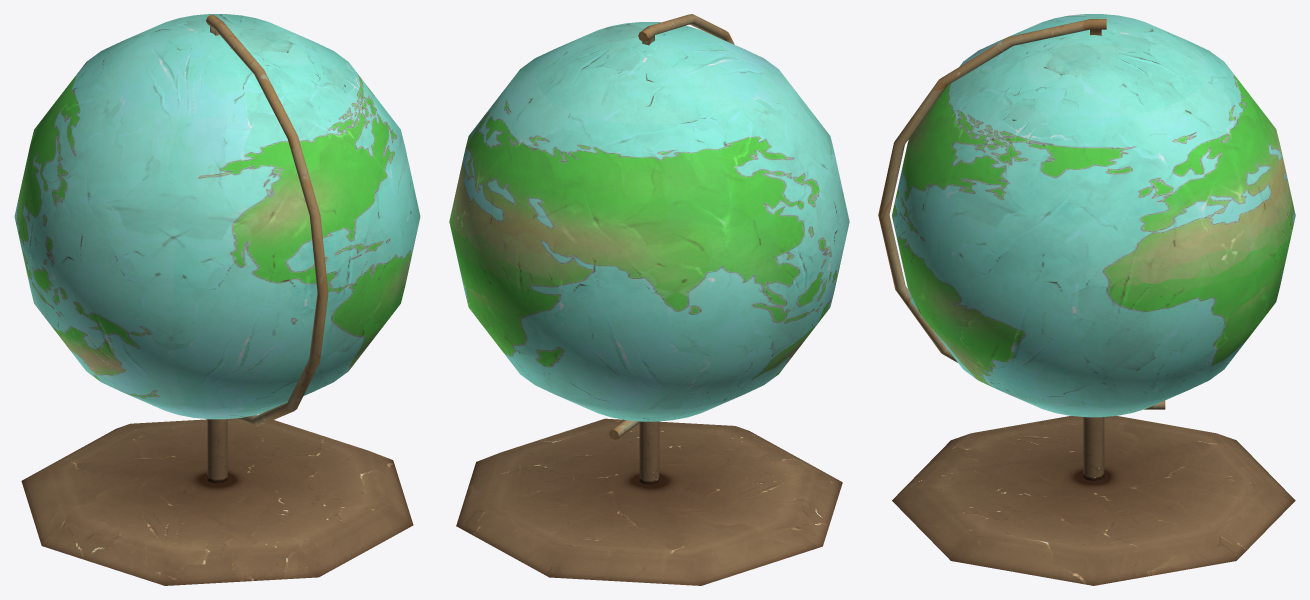
Rendered from Globe.obj.
3 renders of one model, left to right at view 1: azimuth 30°, elevation 25°; view 2: azimuth 150°, elevation 25°; view 3: azimuth 270°, elevation 25°, orthographic.
Visible parts, largest first — view 1: Globe; view 2: Globe; view 3: Globe.
Boxes of the visible parts, bbox=[...] form: Globe: bbox=[14, 14, 420, 585]; Globe: bbox=[449, 14, 849, 585]; Globe: bbox=[878, 14, 1295, 585].
Bounding box in the file's own units: 2 × 2.63 × 2.07.
